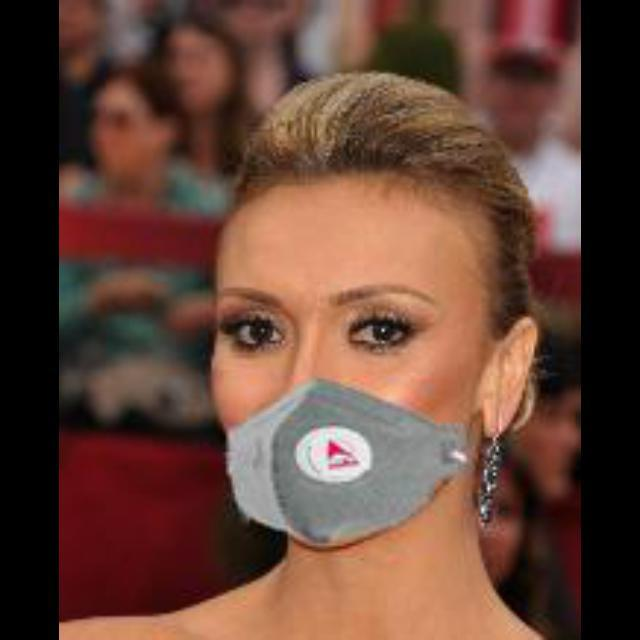suspicion: (196, 141, 524, 569)
